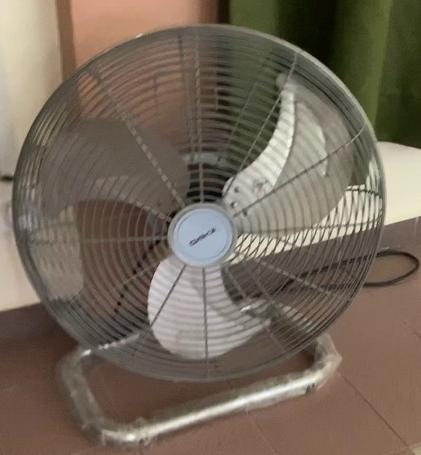fan: (12, 27, 406, 448)
